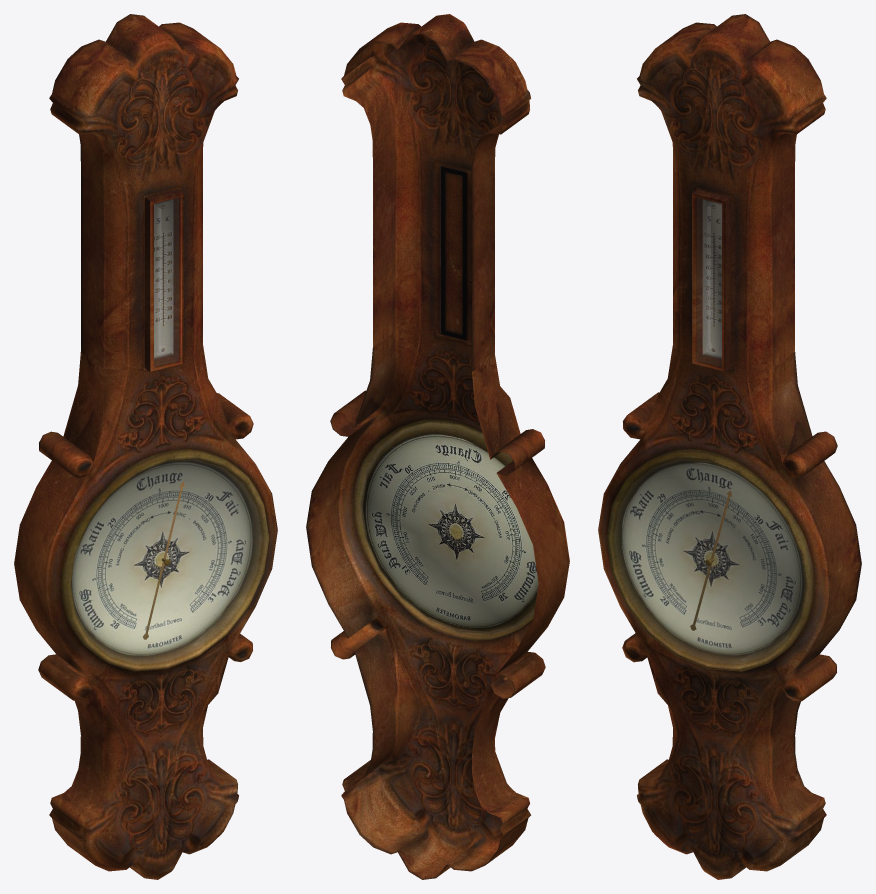
The model's file is barometer.fbx.
The picture shows the model from 3 angles, left to right: view 1: azimuth 30°, elevation 25°; view 2: azimuth 150°, elevation 25°; view 3: azimuth 330°, elevation 25°; orthographic projection.
Parts seen in each view (by area): view 1: barometer; view 2: barometer; view 3: barometer.
Boxes of the visible parts, x1,y1,x2,y2 form: barometer: (14, 14, 277, 879); barometer: (306, 14, 569, 879); barometer: (598, 14, 861, 879).
Size of the model in its own units: 31.77 by 110 by 8.9.
Materials: 2 (1 with a texture image).
